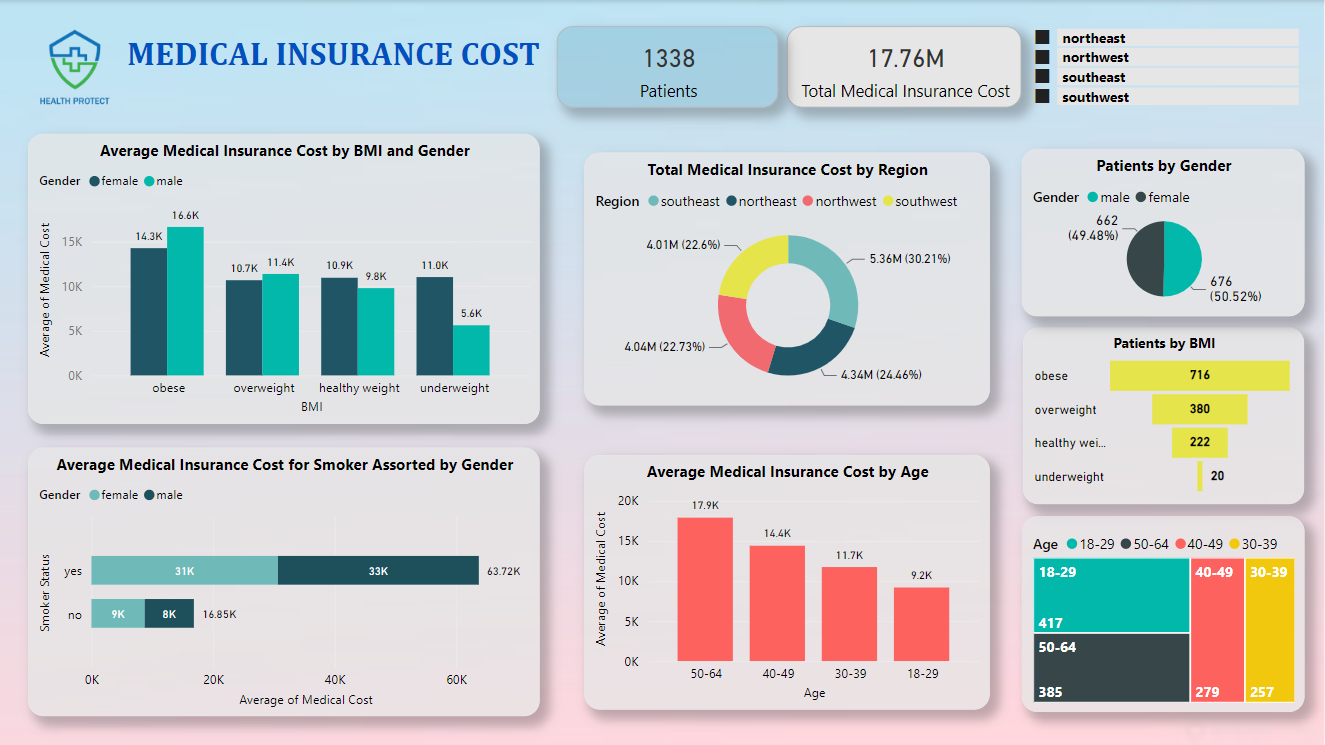

The dashboard page shown, as its layout file describes it:
{"tool":"powerbi","page":{"name":"Page 1","canvas":[1280,720],"ordinal":0},"visuals":[{"type":"clusteredColumnChart","title":"Average Medical Insurance Cost by BMI and Gender","fields":{"Category":["insurance_price.BMI_group"],"Y":["Avg(insurance_price.Medical Cost)"],"Series":["insurance_price.Gender"]},"box":[28.8,129,494,279.9],"z":0},{"type":"donutChart","title":"Total Medical Insurance Cost by Region","fields":{"Category":["insurance_price.Region"],"Y":["Sum(insurance_price.Medical Cost)"]},"box":[565.4,146.8,391.1,244.3],"z":1000},{"type":"card","fields":{"Values":["Sum(insurance_price.Medical Cost)"]},"box":[761,25.3,226.7,78.4],"z":2000},{"type":"barChart","title":"Average Medical Insurance Cost for Smoker Assorted by Gender","fields":{"Y":["Avg(insurance_price.Medical Cost)"],"Series":["insurance_price.Gender"],"Category":["insurance_price.Smoker"]},"box":[28.8,432.2,494,259.3],"z":3000},{"type":"textbox","box":[119.4,27.7,419.7,73.6],"z":4000},{"type":"card","fields":{"Values":["CountNonNull(insurance_price.Index)"]},"box":[539.1,25.3,213.5,78.4],"z":5000},{"type":"clusteredColumnChart","title":"Average Medical Insurance Cost by Age","fields":{"Y":["Avg(insurance_price.Medical Cost)"],"Category":["insurance_price.Age_group"]},"box":[565.4,439.1,391.1,245.6],"z":6000},{"type":"funnel","fields":{"Category":["insurance_price.BMI_group"],"Y":["CountNonNull(insurance_price.Index)"]},"box":[988.5,315.7,271.2,170.1],"z":7000},{"type":"image","box":[28.8,20.6,90.6,86.4],"z":8000},{"type":"pieChart","title":"Patients by Gender","fields":{"Category":["insurance_price.Gender"],"Y":["CountNonNull(insurance_price.Index)"]},"box":[987.3,143.2,272.7,161.8],"z":9000},{"type":"treemap","fields":{"Group":["insurance_price.Age_group"],"Values":["CountNonNull(insurance_price.Index)"]},"box":[987.3,497.8,272.7,189.1],"z":10000},{"type":"slicer","fields":{"Values":["insurance_price.Region"]},"box":[987.8,25.9,272.1,84.4],"z":11000}]}

Visuals, with their boxes in screenshot pixels (x1, y1, x2, y2), scaled from the page's 1280x720 canvas onto the 1325x745 screenshot:
"Average Medical Insurance Cost by BMI and Gender" clusteredColumnChart: locate(30, 133, 541, 423)
"Total Medical Insurance Cost by Region" donutChart: locate(585, 152, 990, 405)
card - Sum(insurance_price.Medical Cost): locate(788, 26, 1022, 107)
"Average Medical Insurance Cost for Smoker Assorted by Gender" barChart: locate(30, 447, 541, 716)
textbox: locate(124, 29, 558, 105)
card - CountNonNull(insurance_price.Index): locate(558, 26, 779, 107)
"Average Medical Insurance Cost by Age" clusteredColumnChart: locate(585, 454, 990, 708)
funnel - insurance_price.BMI_group x CountNonNull(insurance_price.Index): locate(1023, 327, 1304, 503)
image: locate(30, 21, 124, 111)
"Patients by Gender" pieChart: locate(1022, 148, 1304, 316)
treemap - insurance_price.Age_group x CountNonNull(insurance_price.Index): locate(1022, 515, 1304, 711)
slicer - insurance_price.Region: locate(1023, 27, 1304, 114)
